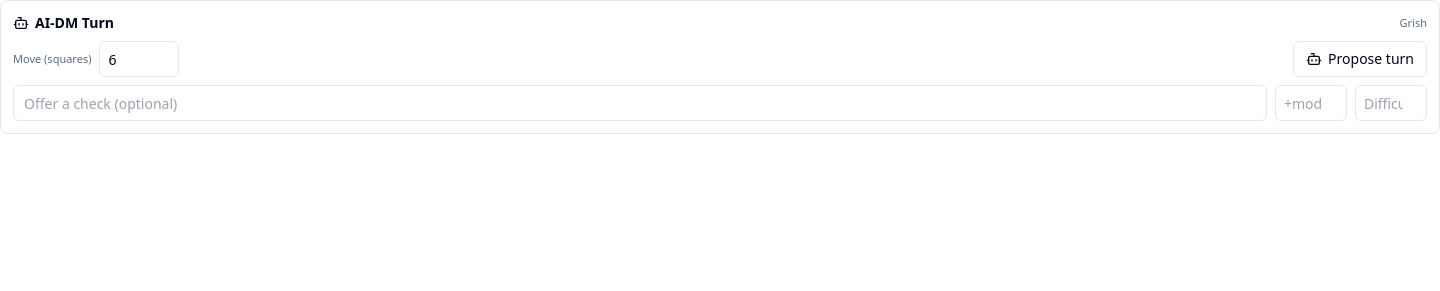
Test case: DmTurnPanel › reports every proposal the flow or the runtime refused
Click the button "Propose turn".
click(1360, 59)  # box left=1293, top=41, right=1427, bottom=77
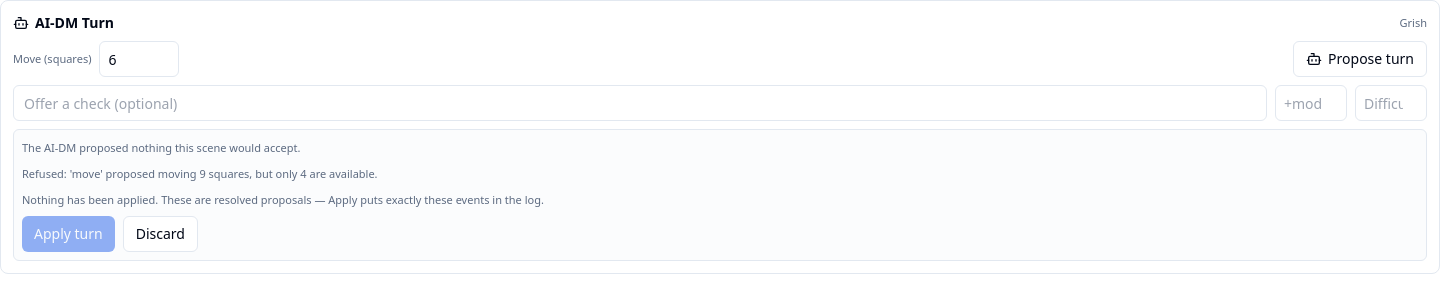
Expected: the list item "proposed moving 9 squares, but only 4 are available" is shown, left=70, top=166, right=378, bottom=181
Expected: the button "Apply turn" is disabled, left=22, top=216, right=115, bottom=252
